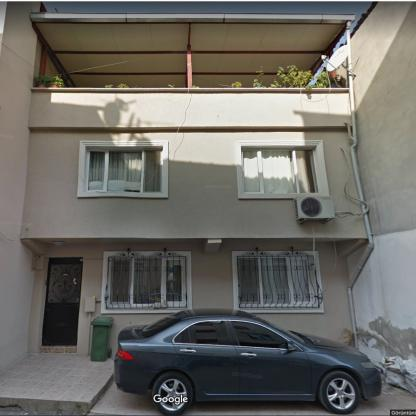door: (41, 257, 82, 346)
window: (236, 255, 318, 309), (108, 257, 184, 308), (238, 146, 318, 192), (84, 146, 162, 192)
